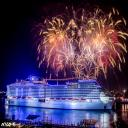cruises: (5, 71, 117, 113)
